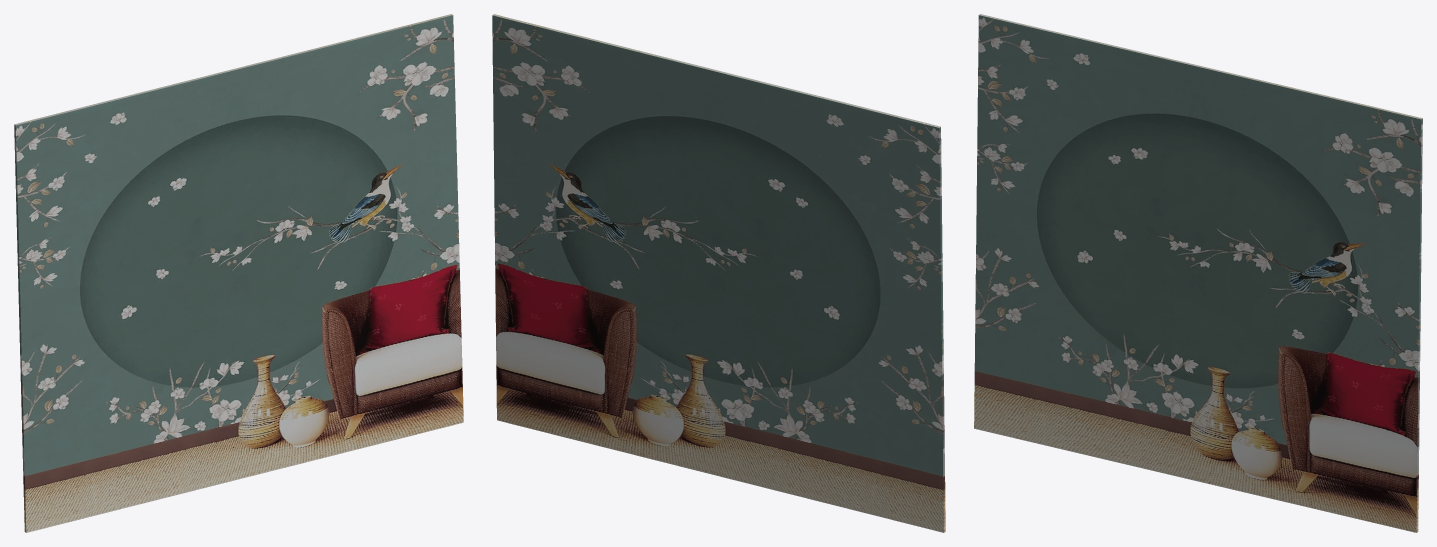
3 views of the same model, side by side, from view 1: azimuth 30°, elevation 25°; view 2: azimuth 150°, elevation 25°; view 3: azimuth 330°, elevation 25° (orthographic). The views are drawn at different scales.
Parts seen in each view (by area): view 1: Mesh_0.016; view 2: Mesh_0.016; view 3: Mesh_0.016.
Part boxes in pixels (box(x1,y1,x2,y2)): Mesh_0.016: box(14, 14, 463, 532); Mesh_0.016: box(492, 14, 945, 532); Mesh_0.016: box(974, 14, 1422, 532).
Size of the model in its own units: 2.29 by 2.02 by 0.0835.
Materials: 1 (1 with a texture image).
